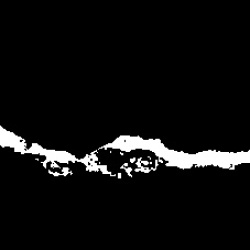crack: (1, 126, 249, 180)
